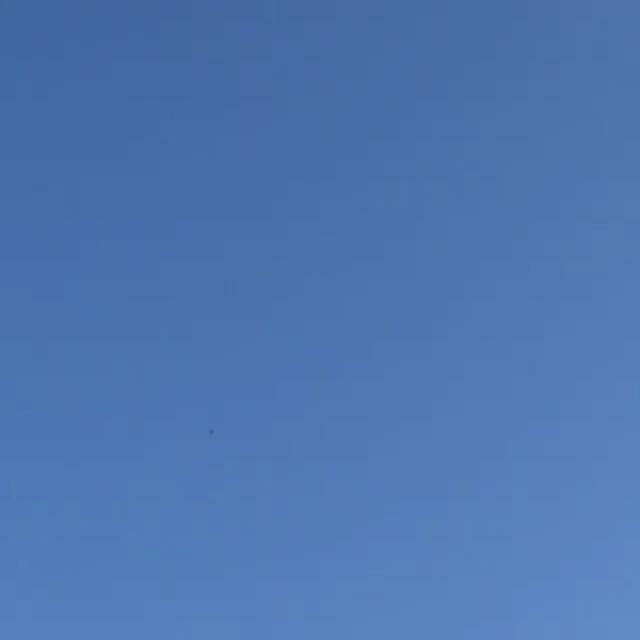AirPlane: (198, 411, 229, 446)
